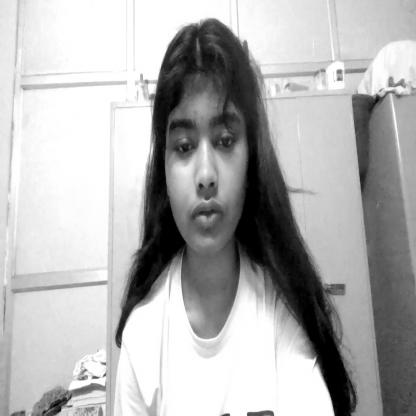Normal: (155, 23, 261, 262)
